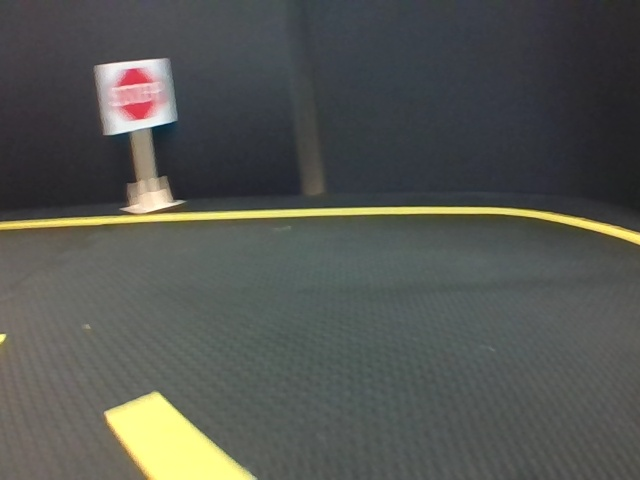stop: (99, 64, 174, 124)
